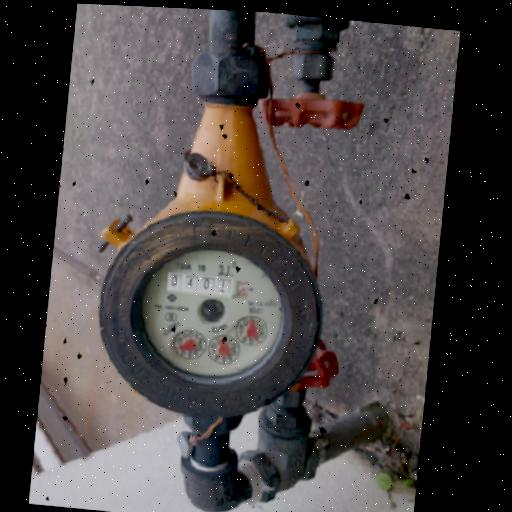0: (169, 274, 183, 290), (201, 277, 215, 293)
1: (218, 279, 232, 294)
4: (185, 276, 199, 291), (236, 281, 248, 298)
border_water_meter_number: (166, 272, 250, 299)
